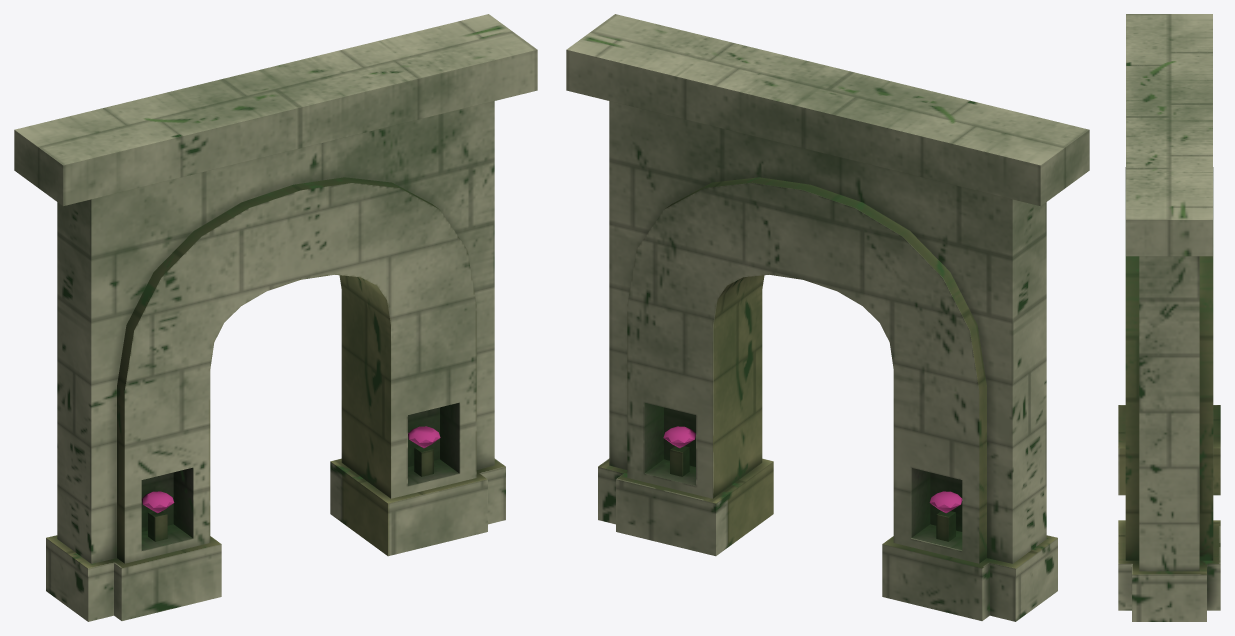
The model's file is Arched Gate.fbx.
3 views of the same model, side by side, from view 1: azimuth 30°, elevation 25°; view 2: azimuth 150°, elevation 25°; view 3: azimuth 270°, elevation 25° (orthographic). The views are drawn at different scales.
Visible parts, largest first — view 1: Arched Gate; view 2: Arched Gate; view 3: Arched Gate.
Part boxes in pixels (left/top/right/bottom): Arched Gate: left=14, top=14, right=537, bottom=621; Arched Gate: left=566, top=14, right=1089, bottom=621; Arched Gate: left=1118, top=14, right=1220, bottom=621.
Size of the model in its own units: 545 by 511 by 115.
1 material, 1 textured.
